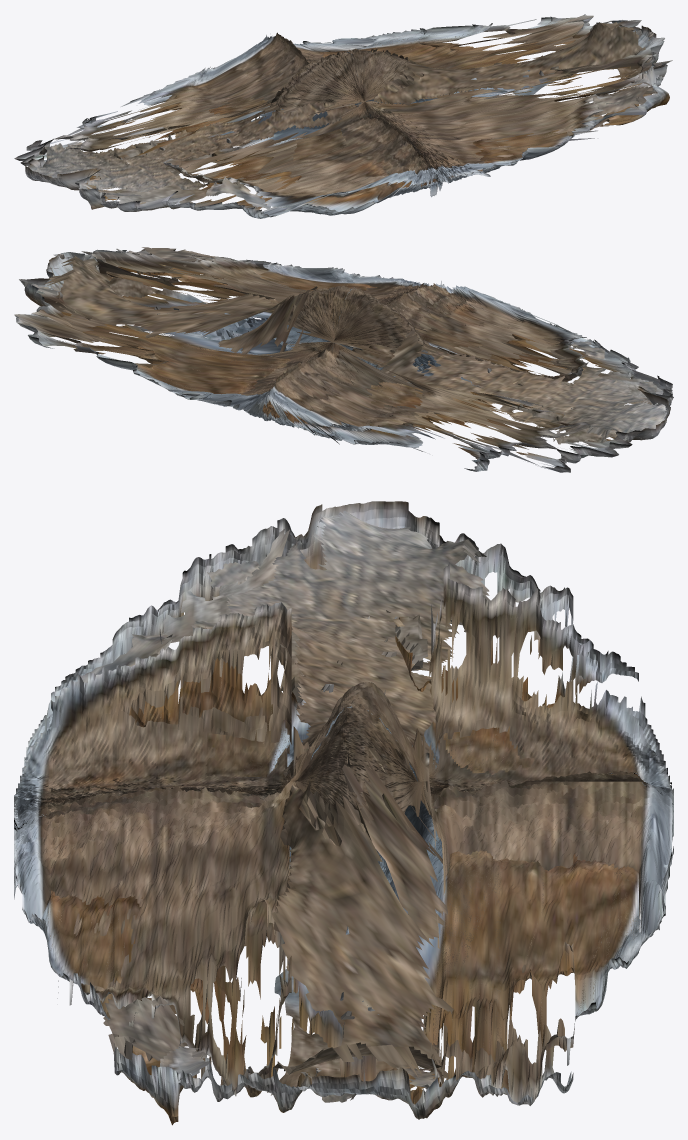
File: snap48_mesh.glb
3 views of the same model, one above another, from view 1: azimuth 30°, elevation 25°; view 2: azimuth 150°, elevation 25°; view 3: azimuth 270°, elevation 25° (orthographic). The views are drawn at different scales.
Parts seen in each view (by area): view 1: ipn, fill; view 2: ipn, fill; view 3: ipn, fill.
Boxes of the visible parts, <box> form: ipn: <box>14,14,672,218</box>; fill: <box>33,20,657,209</box>; ipn: <box>14,249,673,472</box>; fill: <box>31,247,666,444</box>; ipn: <box>14,501,673,1125</box>; fill: <box>77,510,490,1102</box>.
Bounding box in the file's own units: 1.99 × 0.3887 × 0.9423.
2 materials, 1 textured.
